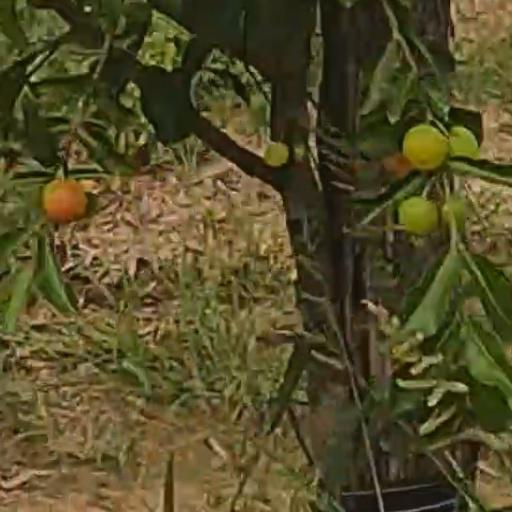acerola_verde: (404, 127, 443, 163), (397, 198, 437, 232), (448, 128, 479, 157)
acerola_vermelha: (44, 178, 87, 220)
